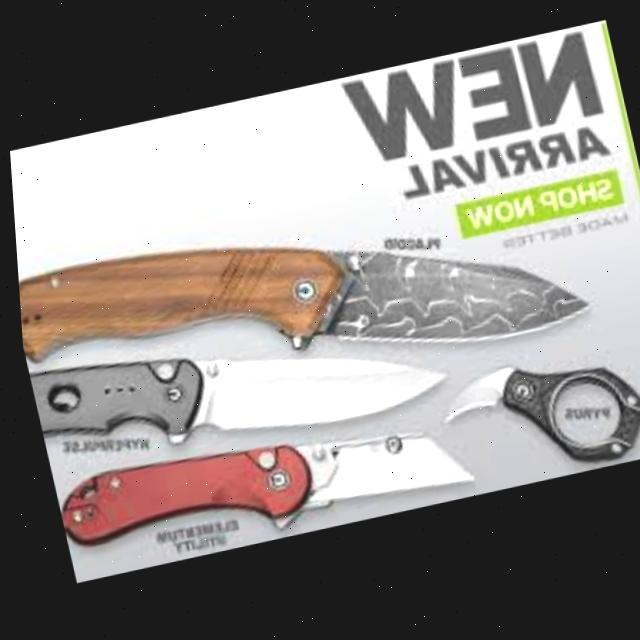Knife: (10, 161, 593, 439), (19, 280, 452, 483), (43, 396, 474, 574), (430, 345, 640, 495)
